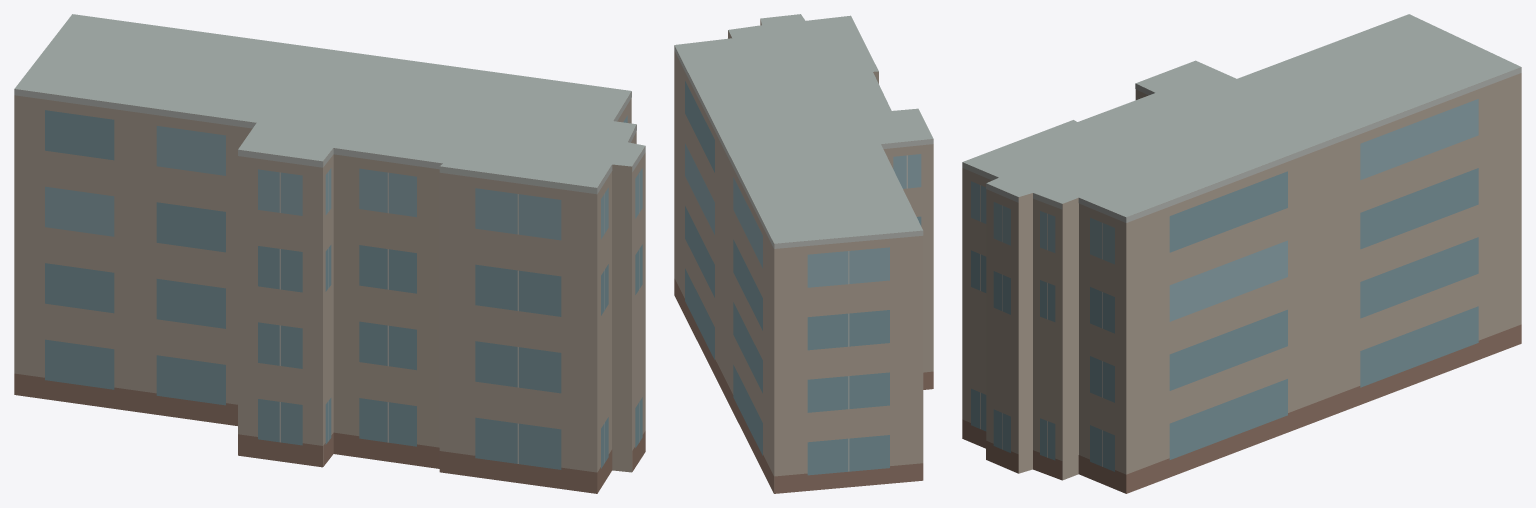
The model's file is survey-upis-32936515.glb.
3 renders of one model, left to right at view 1: azimuth 30°, elevation 25°; view 2: azimuth 150°, elevation 25°; view 3: azimuth 270°, elevation 25°, orthographic. The views are drawn at different scales.
Visible parts, largest first — view 1: survey-upis-32936515.tmp; view 2: survey-upis-32936515.tmp; view 3: survey-upis-32936515.tmp.
Boxes of the visible parts, bbox=[...] form: survey-upis-32936515.tmp: bbox=[14, 14, 645, 493]; survey-upis-32936515.tmp: bbox=[674, 14, 933, 493]; survey-upis-32936515.tmp: bbox=[962, 14, 1521, 493].
Bounding box in the file's own units: 18.46 × 11.7 × 21.45.
